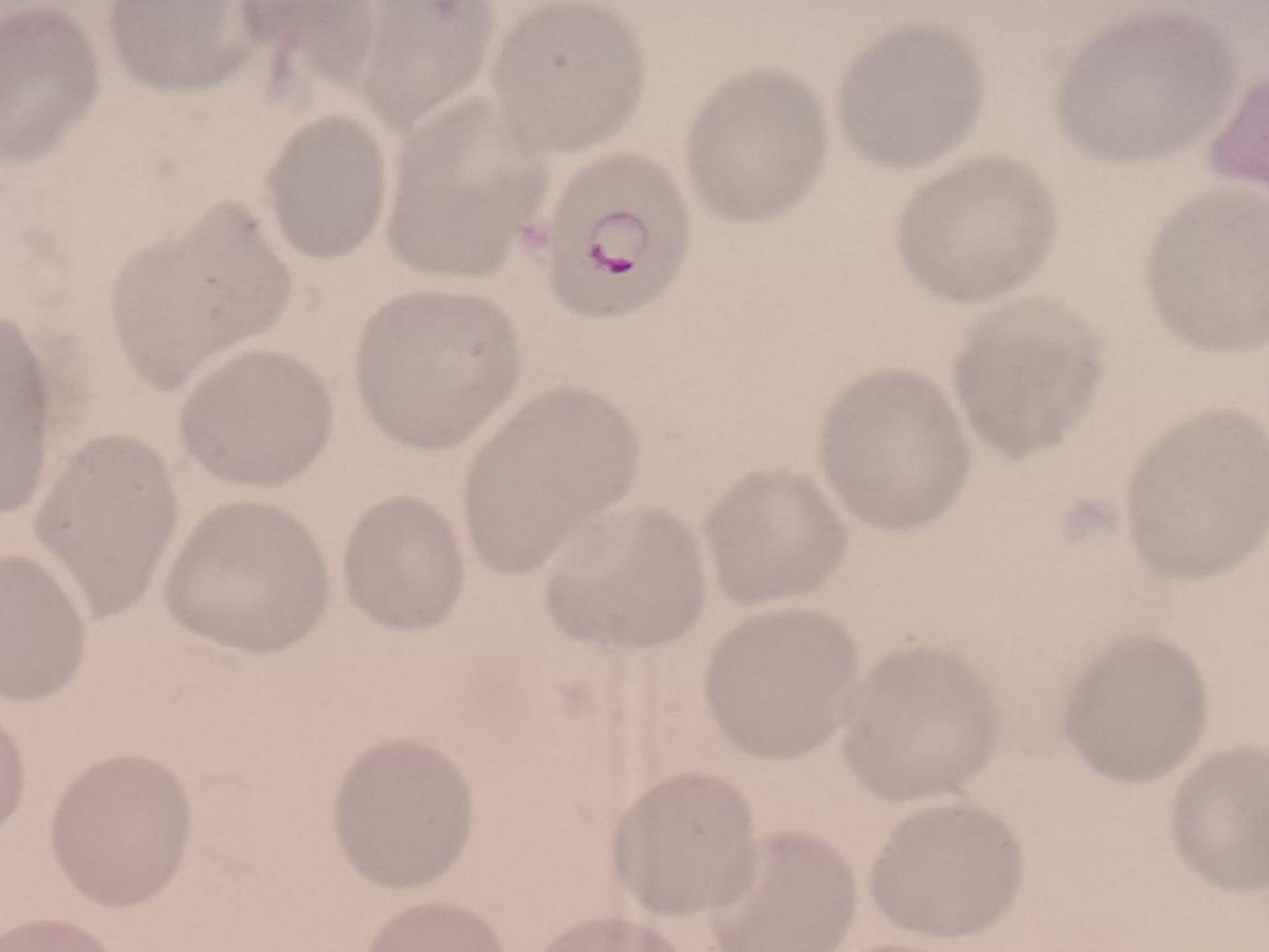Infected: (551, 151, 693, 312)
Uninfected: (112, 207, 290, 390), (463, 390, 633, 569), (386, 104, 545, 275), (35, 435, 176, 616), (356, 293, 519, 449), (163, 504, 330, 655), (1060, 15, 1228, 159), (491, 0, 646, 151), (1127, 417, 1269, 579), (820, 372, 968, 527), (845, 647, 997, 797), (706, 612, 861, 758), (547, 505, 707, 645), (953, 304, 1100, 456), (898, 159, 1050, 299), (50, 756, 189, 906), (180, 351, 333, 486), (336, 742, 475, 886), (1065, 639, 1203, 783), (611, 776, 752, 916), (691, 75, 827, 219), (838, 27, 979, 165), (703, 468, 846, 603), (1147, 191, 1269, 348), (872, 809, 1019, 936), (362, 2, 496, 126), (344, 497, 469, 629), (717, 836, 853, 952), (273, 118, 386, 257), (2, 13, 95, 159), (240, 3, 375, 101), (1171, 751, 1266, 883), (114, 1, 254, 90), (1, 560, 79, 700)
